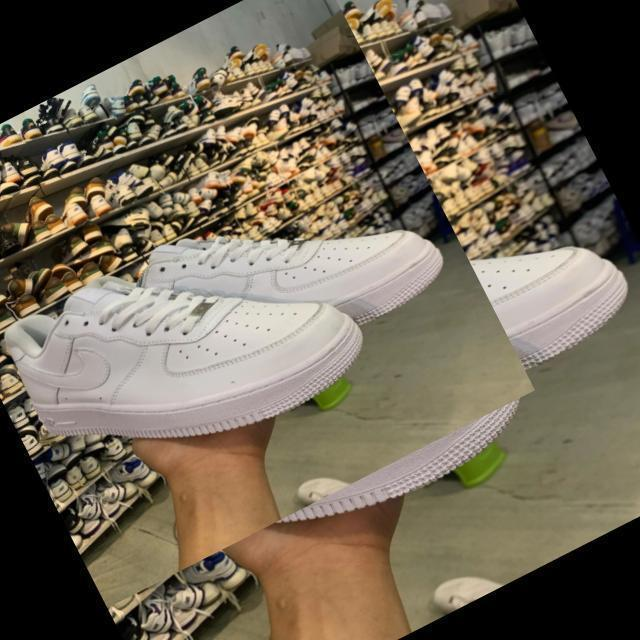nike fake air force: (0, 177, 379, 517), (71, 129, 458, 440)
